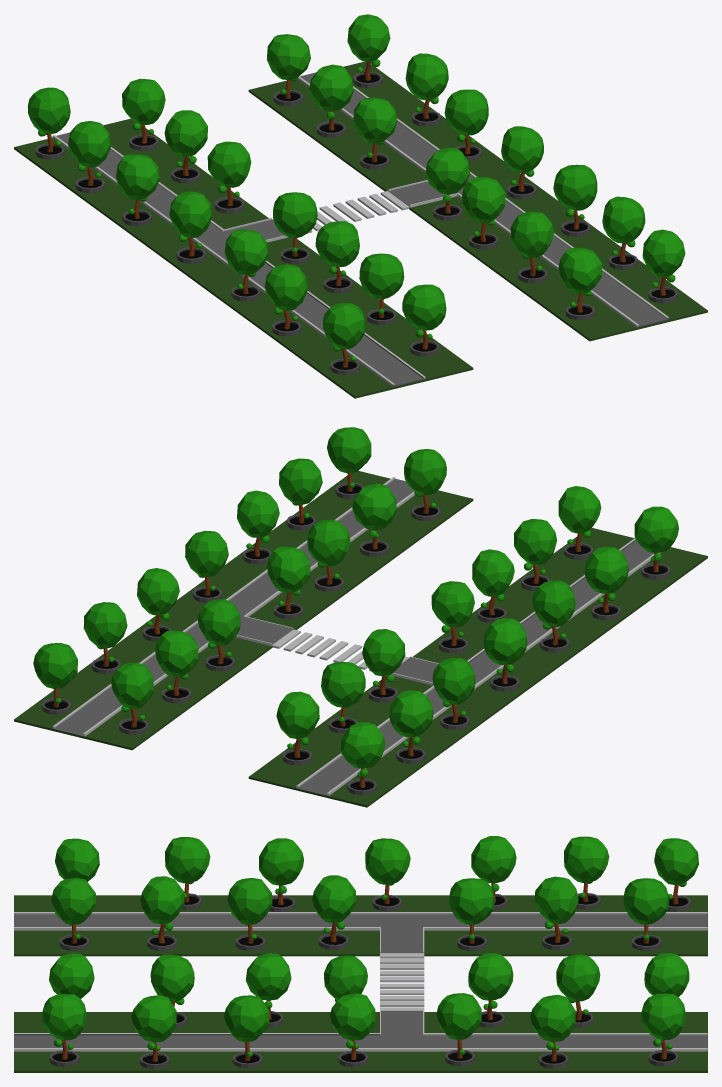
File: Park.fbx
The picture shows the model from 3 angles, top to bottom: view 1: azimuth 30°, elevation 25°; view 2: azimuth 150°, elevation 25°; view 3: azimuth 270°, elevation 25°; orthographic projection.
Parts seen in each view (by area): view 1: Park; view 2: Park; view 3: Park.
Part boxes in pixels (x1,y1,x2,y2): Park: (14,14,707,398); Park: (14,427,707,807); Park: (14,836,707,1072).
Size of the model in its own units: 907 by 158 by 1489.
